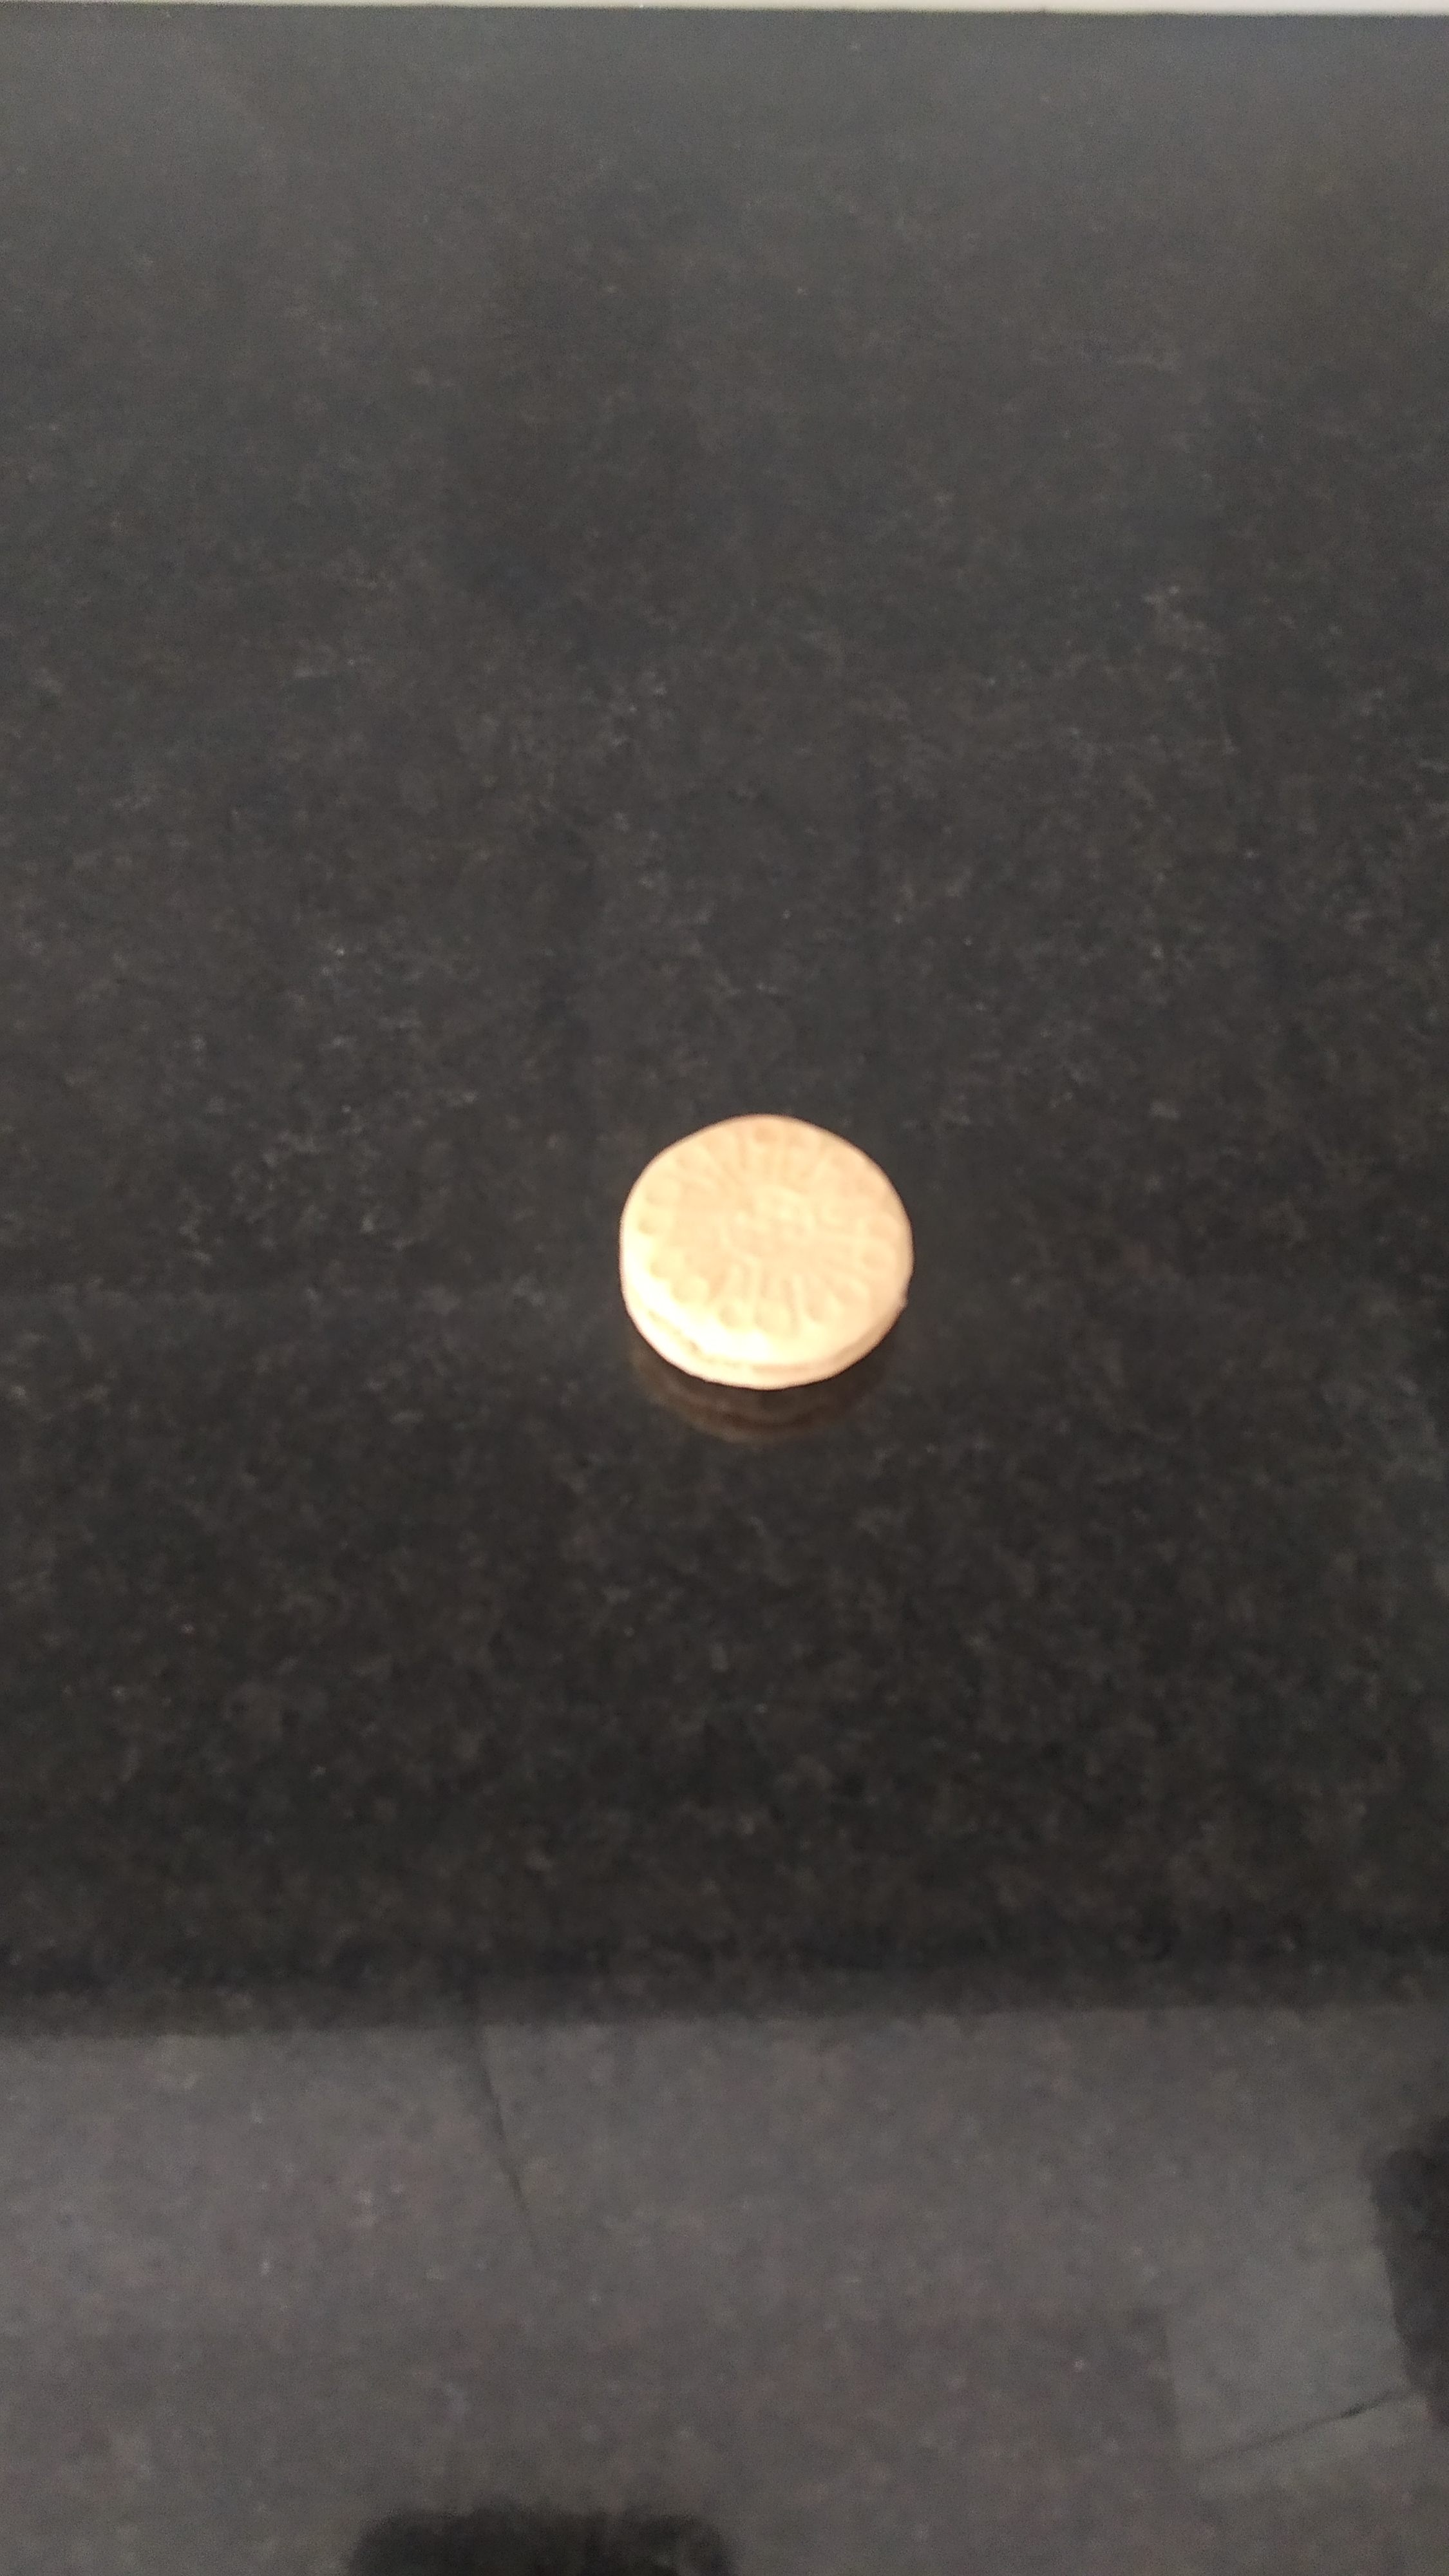lulu: (617, 1111, 916, 1394)
